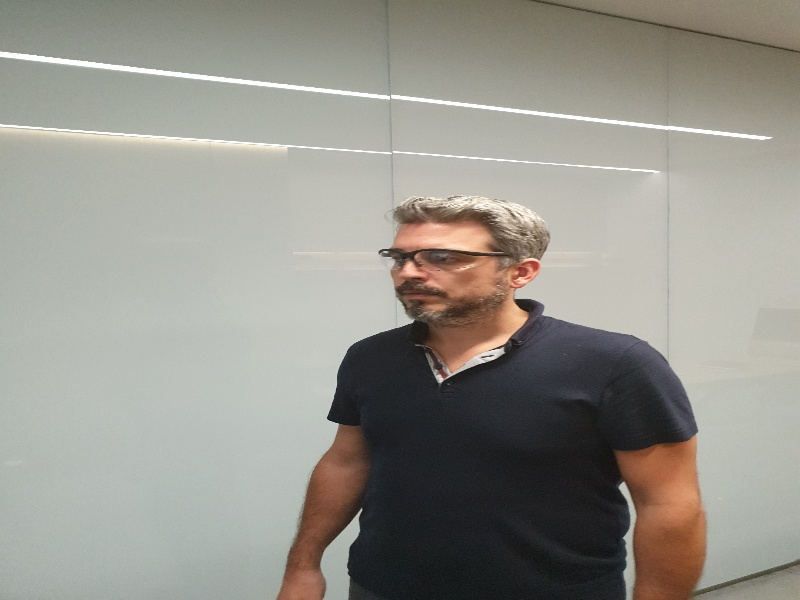Gozluk: (379, 249, 508, 267)
